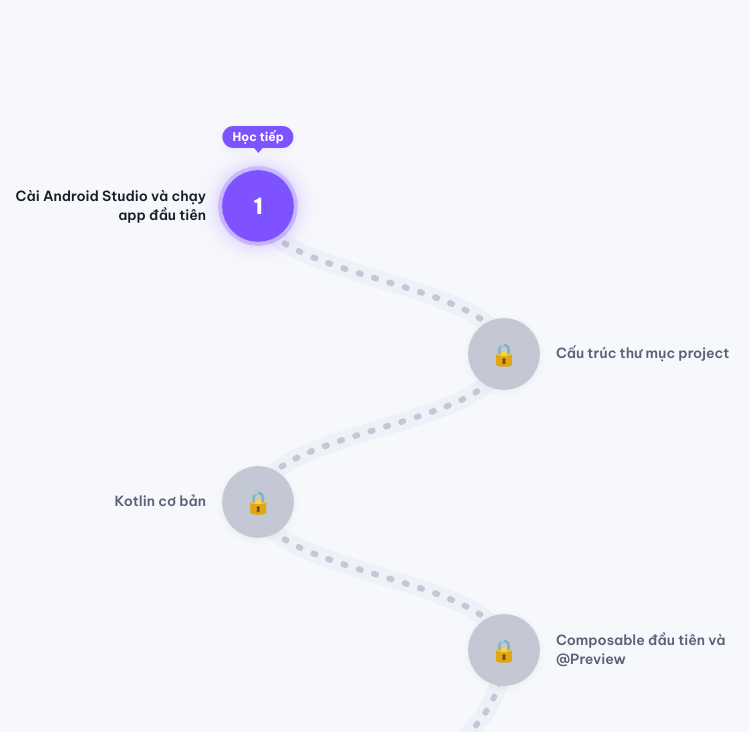
Test case: RoadmapMap › shows a tooltip with concept and duration on focus
The image size is (749, 732).
Focus the button named "Bài 1:": (258, 206) [222, 170, 294, 242]
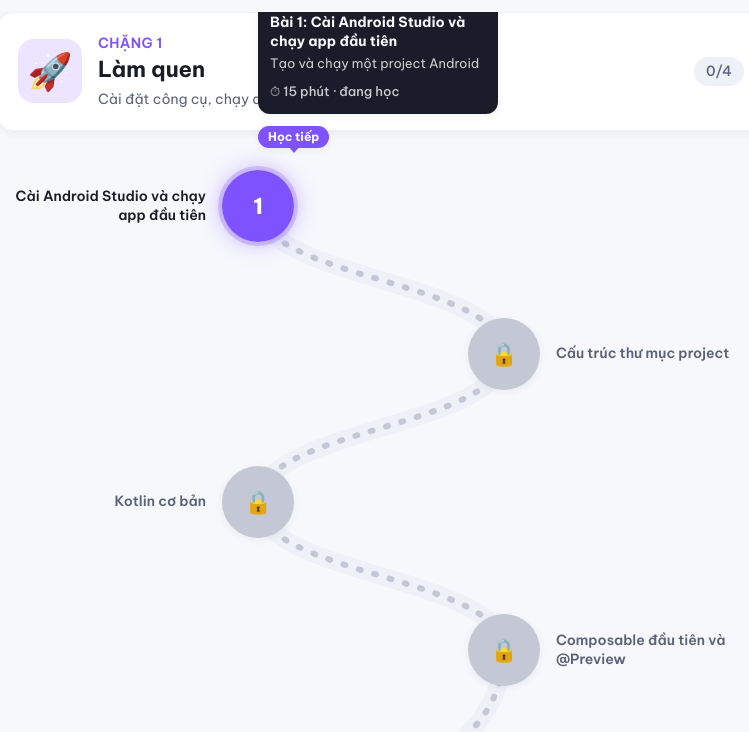
Check: the tooltip shows "Tạo và chạy một project Android", box [270, 55, 479, 71]
